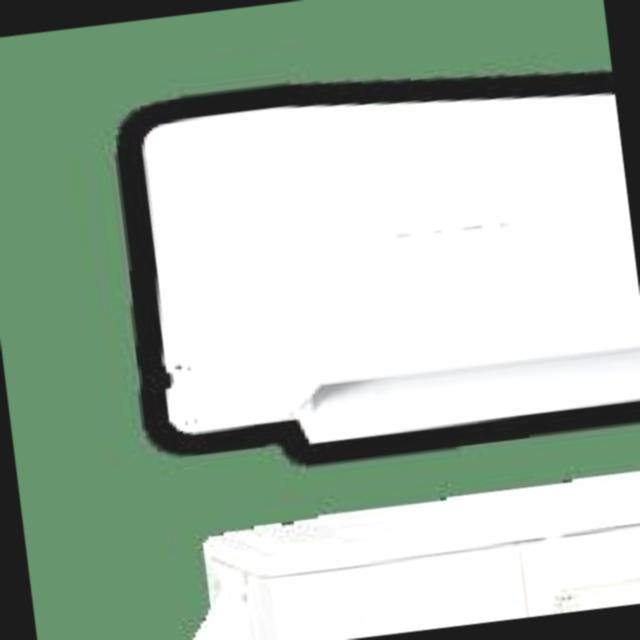SPLIT-SYSTEM: (112, 50, 640, 472), (130, 450, 640, 640)
